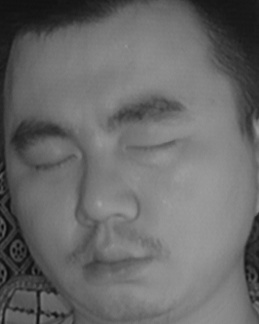blink: (125, 128, 178, 167), (30, 145, 81, 178)
mouth: (74, 232, 157, 288)
